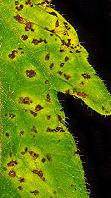Tomato leaf bacterial spot: (0, 0, 110, 198)
